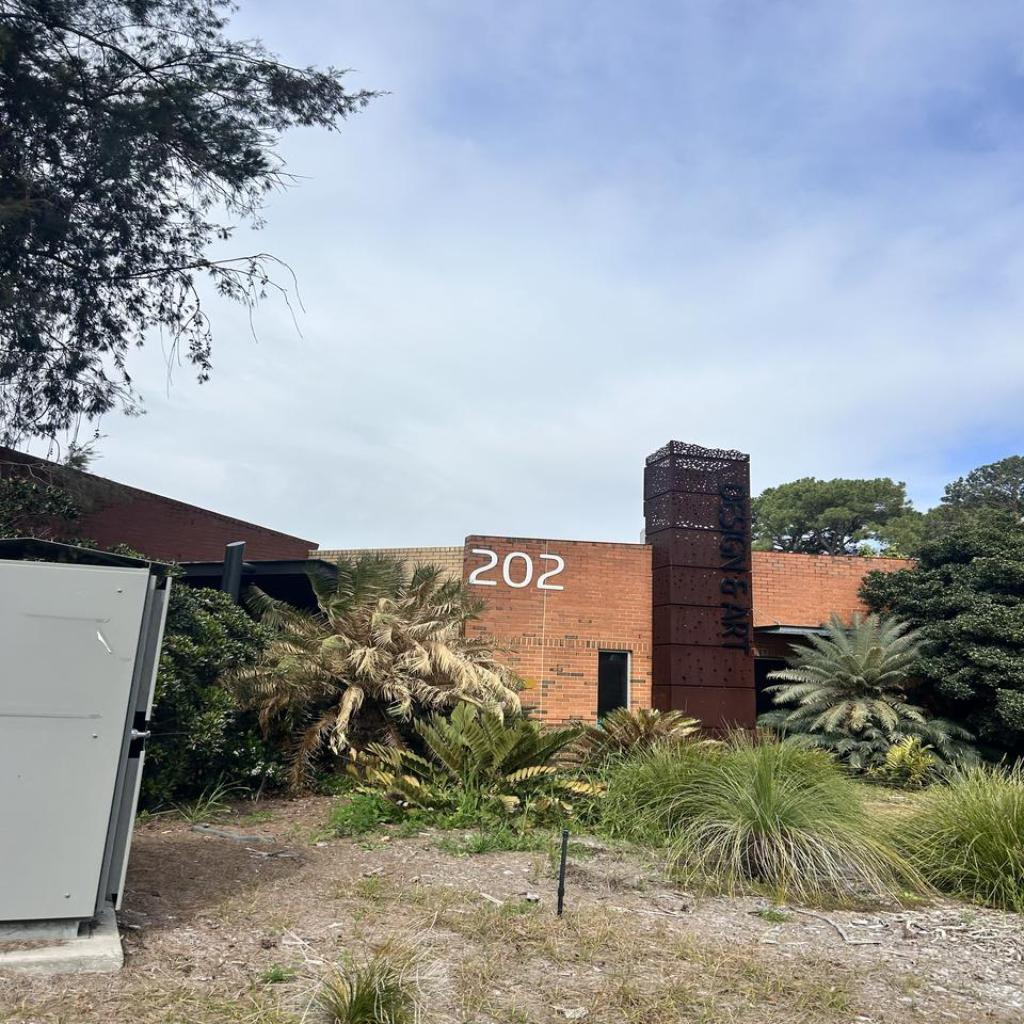BuildingCodes: (467, 545, 565, 593)
